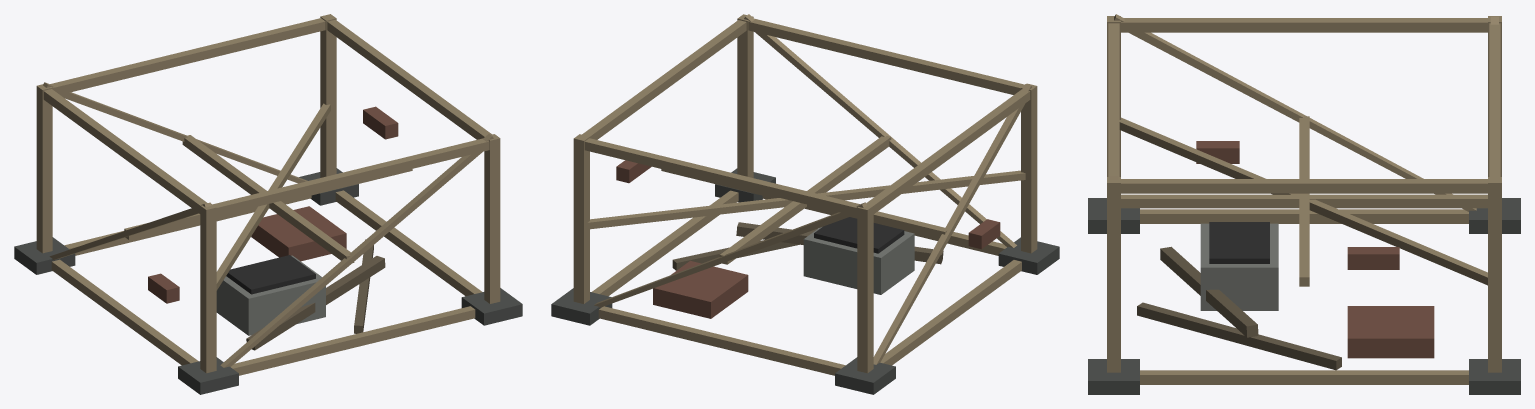
File: ancient_crane_base.obj
The picture shows the model from 3 angles, left to right: view 1: azimuth 30°, elevation 25°; view 2: azimuth 150°, elevation 25°; view 3: azimuth 270°, elevation 25°; orthographic projection. The views are drawn at different scales.
Visible parts, largest first — view 1: ancient_crane_base; view 2: ancient_crane_base; view 3: ancient_crane_base.
Part boxes in pixels (x1,y1,x2,y2): ancient_crane_base: (14, 14, 522, 394); ancient_crane_base: (551, 14, 1059, 394); ancient_crane_base: (1088, 14, 1520, 394).
Size of the model in its own units: 5 by 2.64 by 5.
